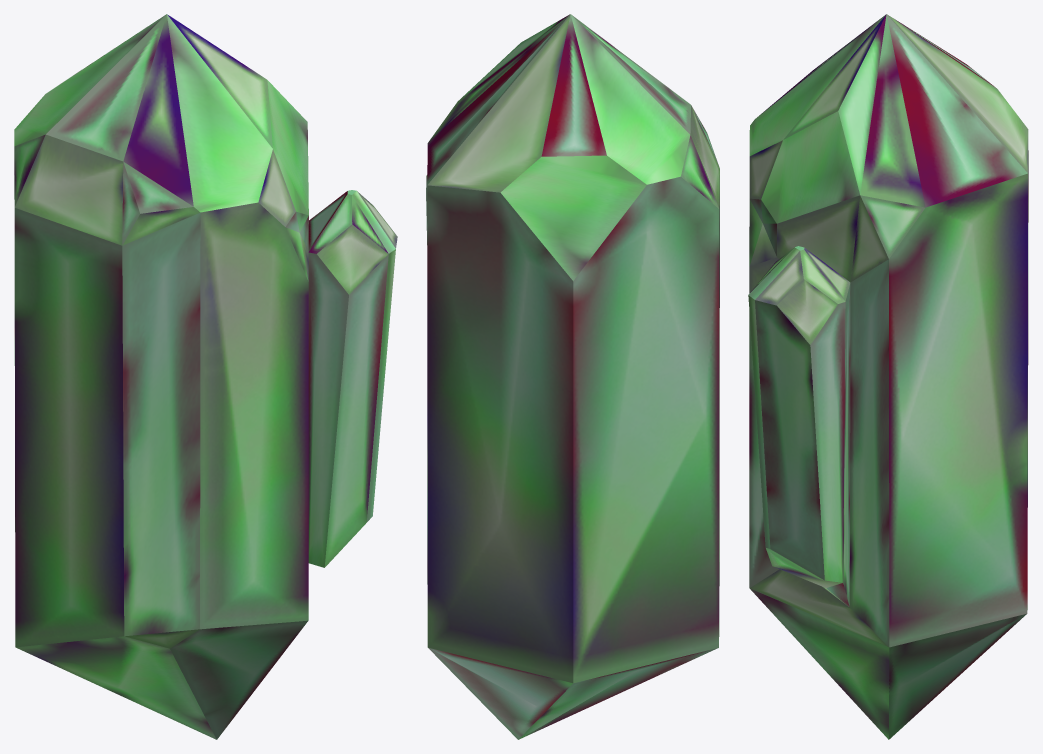
Rendered from Crystal07.FBX.
The picture shows the model from 3 angles, left to right: view 1: azimuth 30°, elevation 25°; view 2: azimuth 150°, elevation 25°; view 3: azimuth 270°, elevation 25°; orthographic projection. The views are drawn at different scales.
Visible parts, largest first — view 1: Crystal07; view 2: Crystal07; view 3: Crystal07.
Boxes of the visible parts, bbox=[...] form: Crystal07: bbox=[14, 14, 397, 739]; Crystal07: bbox=[426, 14, 719, 739]; Crystal07: bbox=[748, 14, 1028, 739].
Size of the model in its own units: 19.64 by 41.33 by 14.95.
